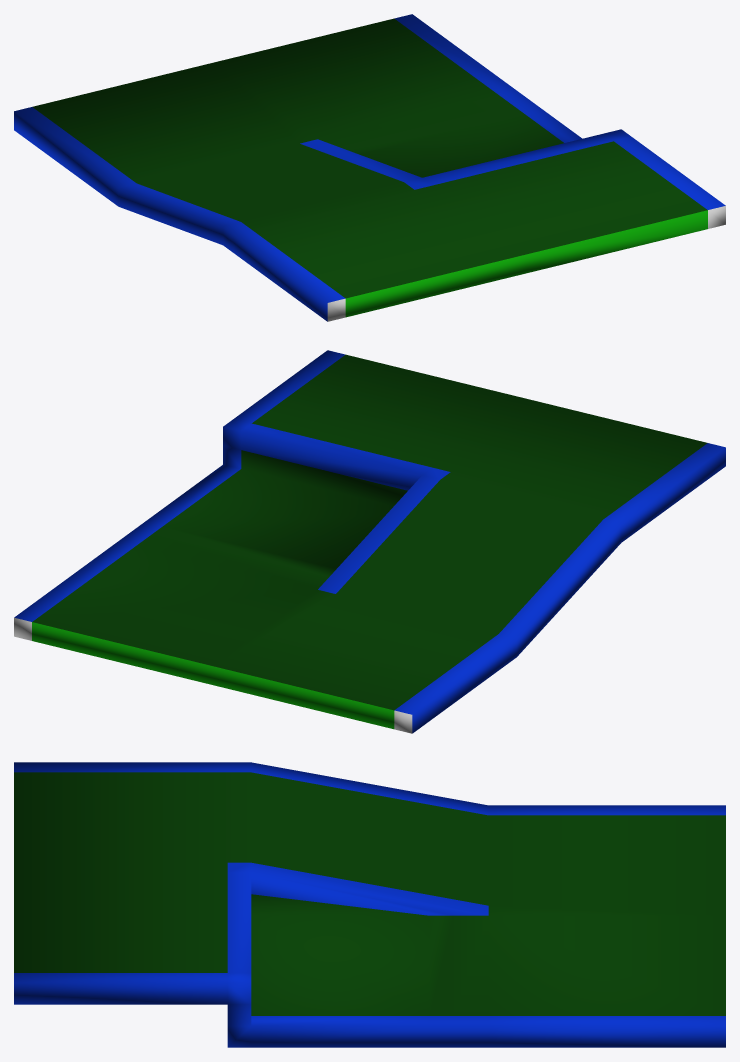
The model's file is HalfWideRightUpRight.fbx.
The picture shows the model from 3 angles, top to bottom: view 1: azimuth 30°, elevation 25°; view 2: azimuth 150°, elevation 25°; view 3: azimuth 270°, elevation 25°; orthographic projection. The views are drawn at different scales.
Visible parts, largest first — view 1: Mesh; view 2: Mesh; view 3: Mesh.
Boxes of the visible parts, bbox=[...] form: Mesh: bbox=[14, 14, 725, 321]; Mesh: bbox=[14, 350, 725, 733]; Mesh: bbox=[14, 762, 725, 1047].
Bounding box in the file's own units: 22000 × 3000 × 30000.
